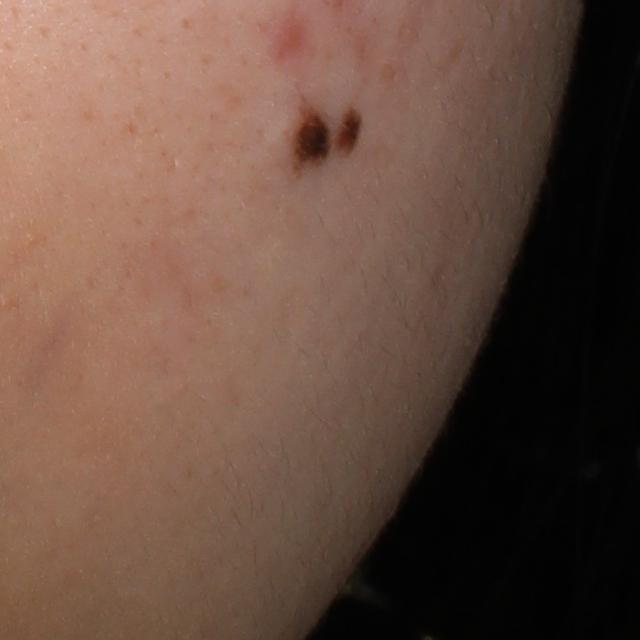nevus: (290, 94, 334, 181), (331, 102, 363, 161)
